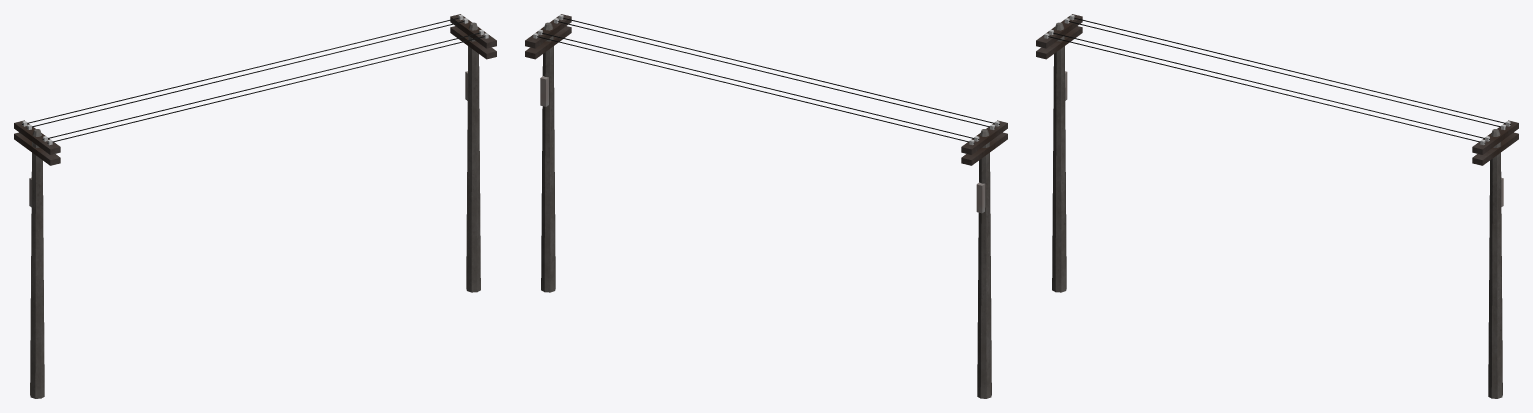
Rendered from PostesElétricos.fbx.
3 views of the same model, side by side, from view 1: azimuth 30°, elevation 25°; view 2: azimuth 150°, elevation 25°; view 3: azimuth 330°, elevation 25° (orthographic).
Parts seen in each view (by area): view 1: Poste, Poste2, Cabos; view 2: Poste2, Poste, Cabos; view 3: Poste2, Poste, Cabos.
Boxes of the visible parts, x1=… form: Poste: x1=450, y1=14, x2=496, y2=292; Poste2: x1=14, y1=120, x2=60, y2=398; Cabos: x1=22, y1=17, x2=484, y2=143; Poste2: x1=961, y1=120, x2=1007, y2=398; Poste: x1=525, y1=14, x2=571, y2=292; Cabos: x1=537, y1=17, x2=999, y2=143; Poste2: x1=1036, y1=14, x2=1082, y2=292; Poste: x1=1472, y1=120, x2=1518, y2=398; Cabos: x1=1044, y1=17, x2=1510, y2=143.
Size of the model in its own units: 1858 by 1049 by 260.
